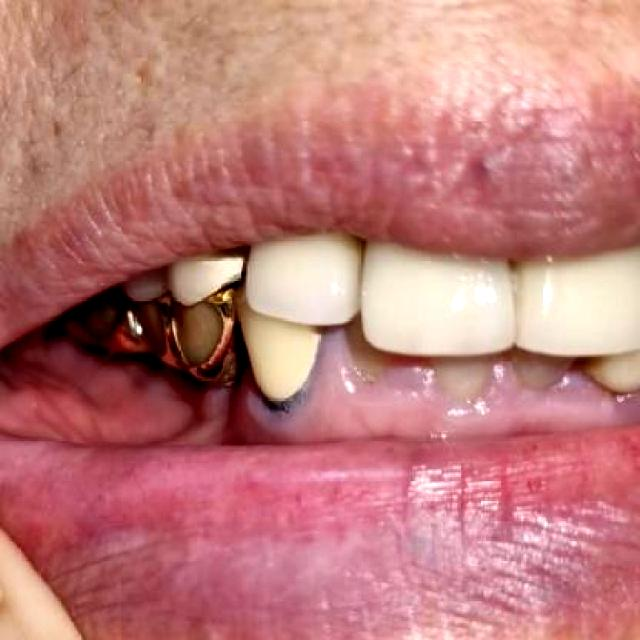Plaque: (253, 362, 314, 423)
